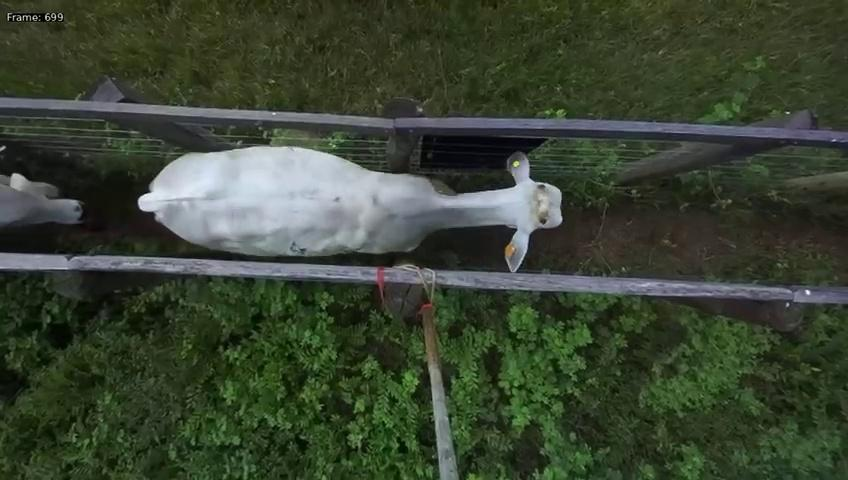cattle: (136, 139, 565, 270)
